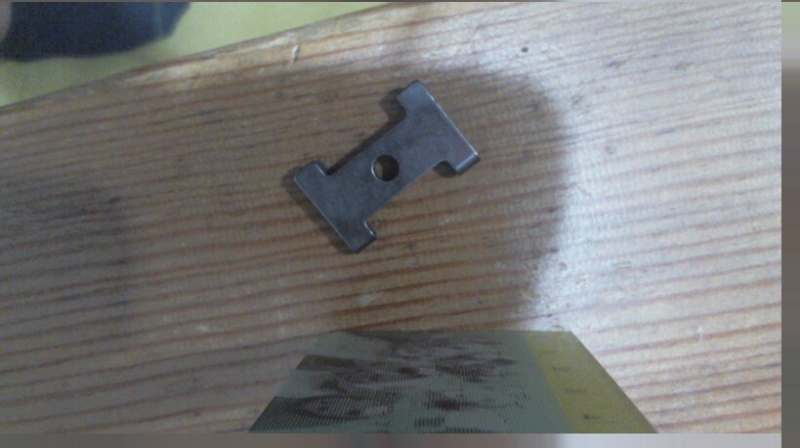O002: (291, 79, 484, 256)
